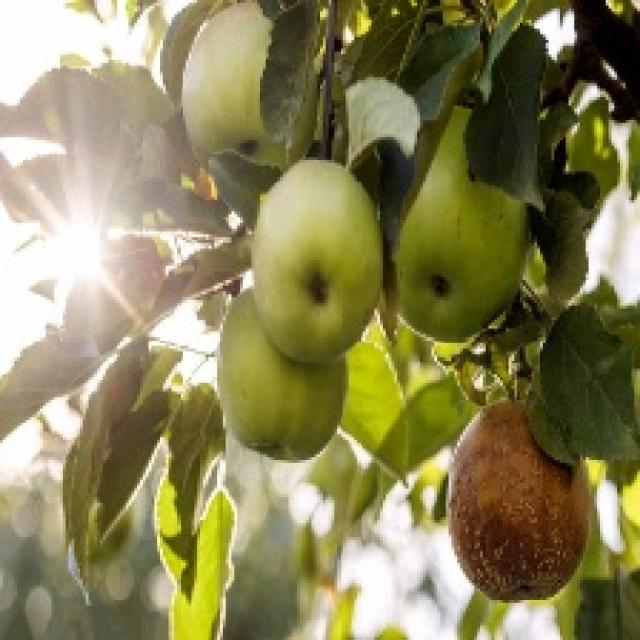50-_ripeness: (394, 113, 537, 340), (256, 168, 384, 355), (186, 16, 313, 160)
rotten_apple: (449, 402, 584, 594)
